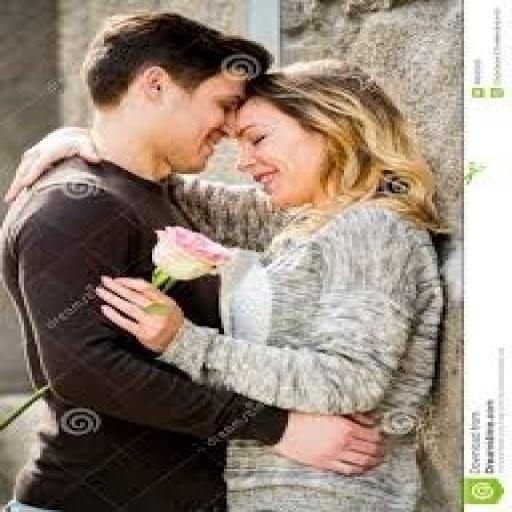hugging: (0, 13, 445, 510)
